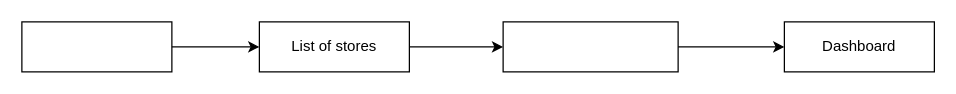
This 956x94 diagram has some shape labels left out. Here are the shapes that lost their labels. From the top down, the centre of each, then its label:
the point at 96,46: Login
the point at 590,46: Open store
